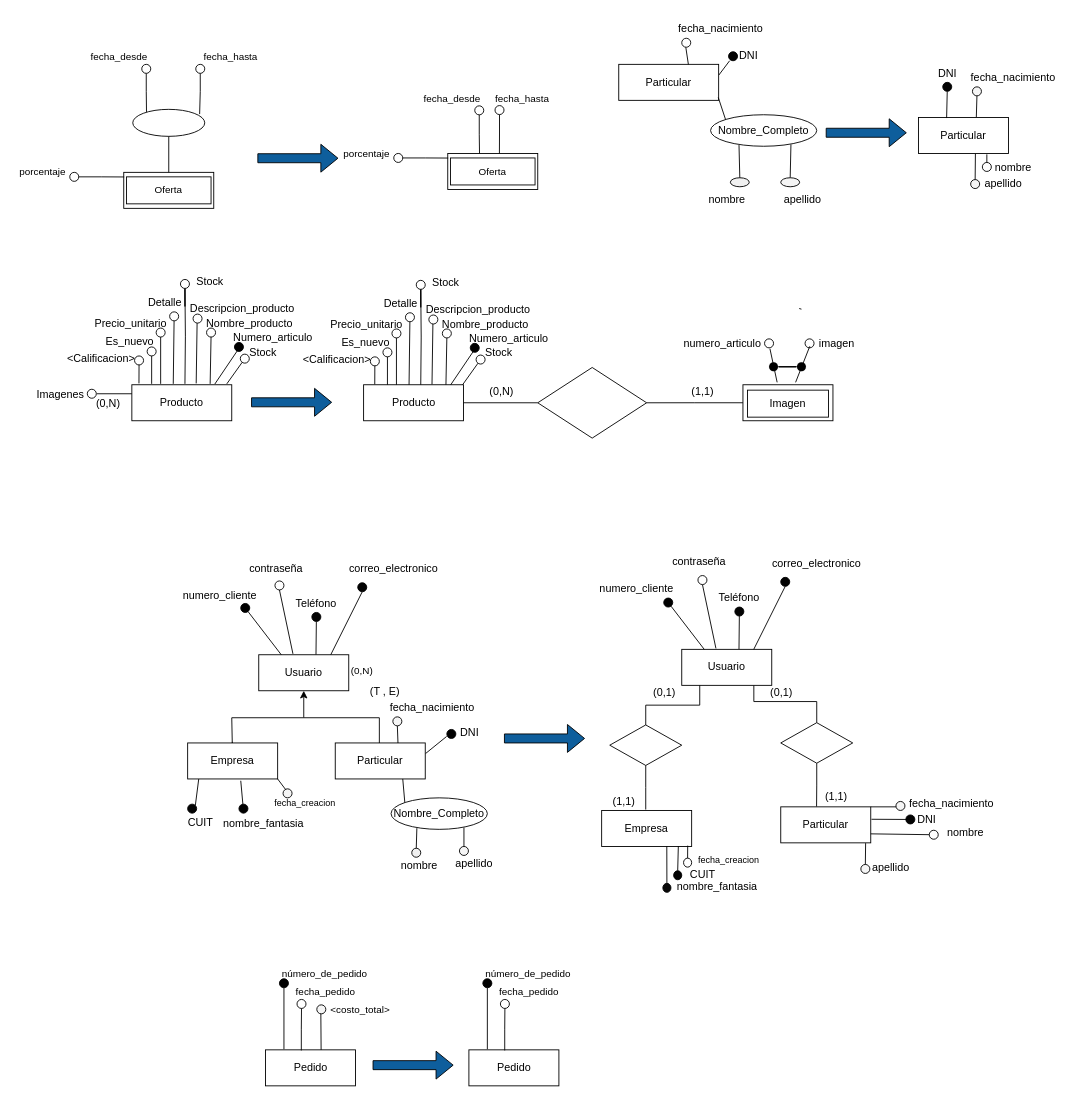
The diagram is 1082 pixels wide and 1102 high, and some of its shapes have lost their labels. The shapes that lost their labels are listed below. From the top down, each one's centre as x and y in pixels, then its label:
point 168,122: Periodo
point 592,402: Se_compone_por
point 645,744: puede_ser
point 816,742: sera
